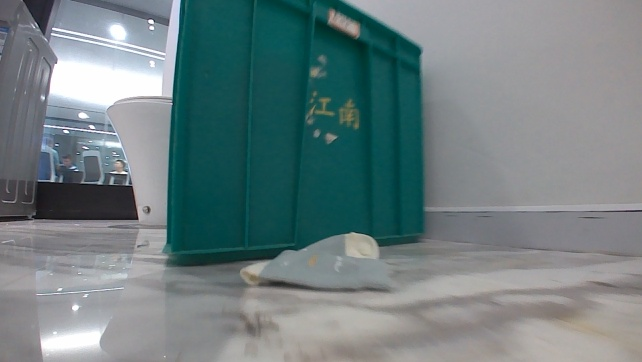socks: (235, 228, 394, 292)
toilet: (104, 91, 173, 230)
washing_machine1: (0, 0, 60, 220)
